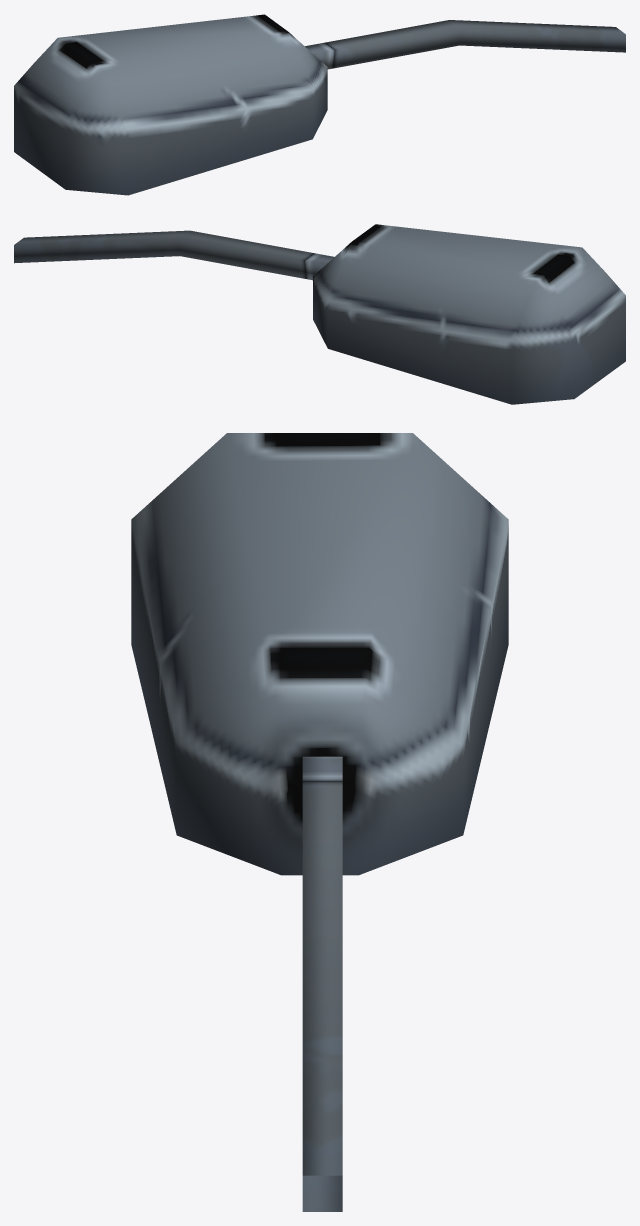
Rendered from Streetlight_el4.fbx.
3 renders of one model, top to bottom at view 1: azimuth 30°, elevation 25°; view 2: azimuth 150°, elevation 25°; view 3: azimuth 270°, elevation 25°, orthographic. The views are drawn at different scales.
Visible parts, largest first — view 1: polySurface133; view 2: polySurface133; view 3: polySurface133.
Boxes of the visible parts, x1=… form: polySurface133: x1=14, y1=14, x2=625, y2=195; polySurface133: x1=14, y1=224, x2=625, y2=404; polySurface133: x1=131, y1=433, x2=508, y2=1211.
Size of the model in its own units: 2.54 by 0.5278 by 0.7153.
